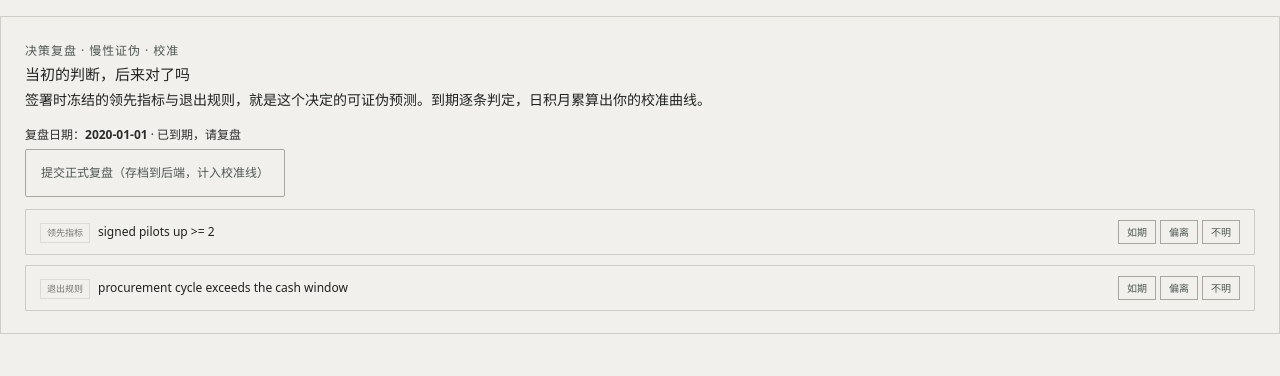
Test case: RetrospectivePanel › renders indicators + due status and records a judgement into calibration
Check: the element showing "复盘日期：2020-01-01 · 已到期，请复盘 提交正式复盘（存档到后端，计入校准线）" is shown, box left=25, top=126, right=285, bottom=197
Check: the text "领先指标 signed pilots up >= 2" is shown, box left=40, top=223, right=215, bottom=243
What coordinates should you click on to do the following:
click the button "如期" in the row of "signed pilots up >= 2"
I would click on:
 (1137, 232)
Its box is left=1118, top=220, right=1156, bottom=244.
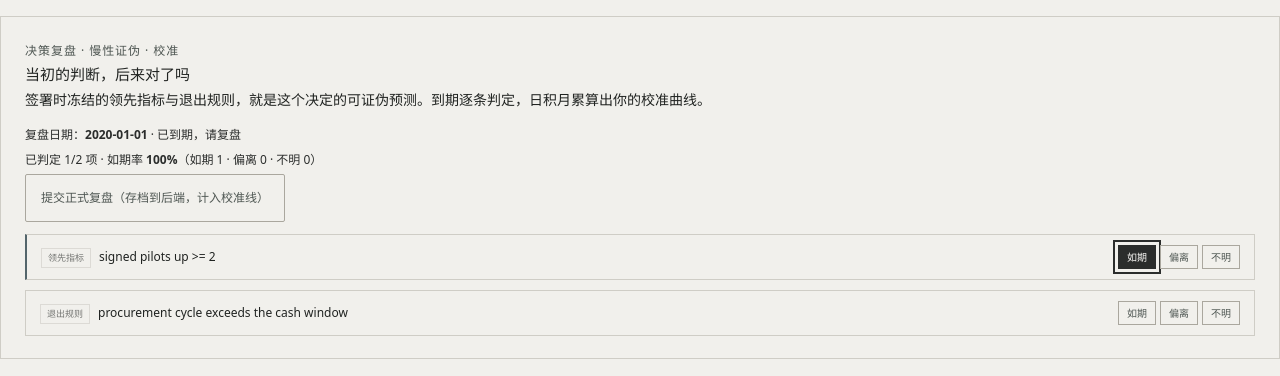
Check: the element showing "已判定 1/2 项 · 如期率 100%（如期 1 · 偏离 0 · 不明 0）" is shown, box left=25, top=151, right=322, bottom=168
